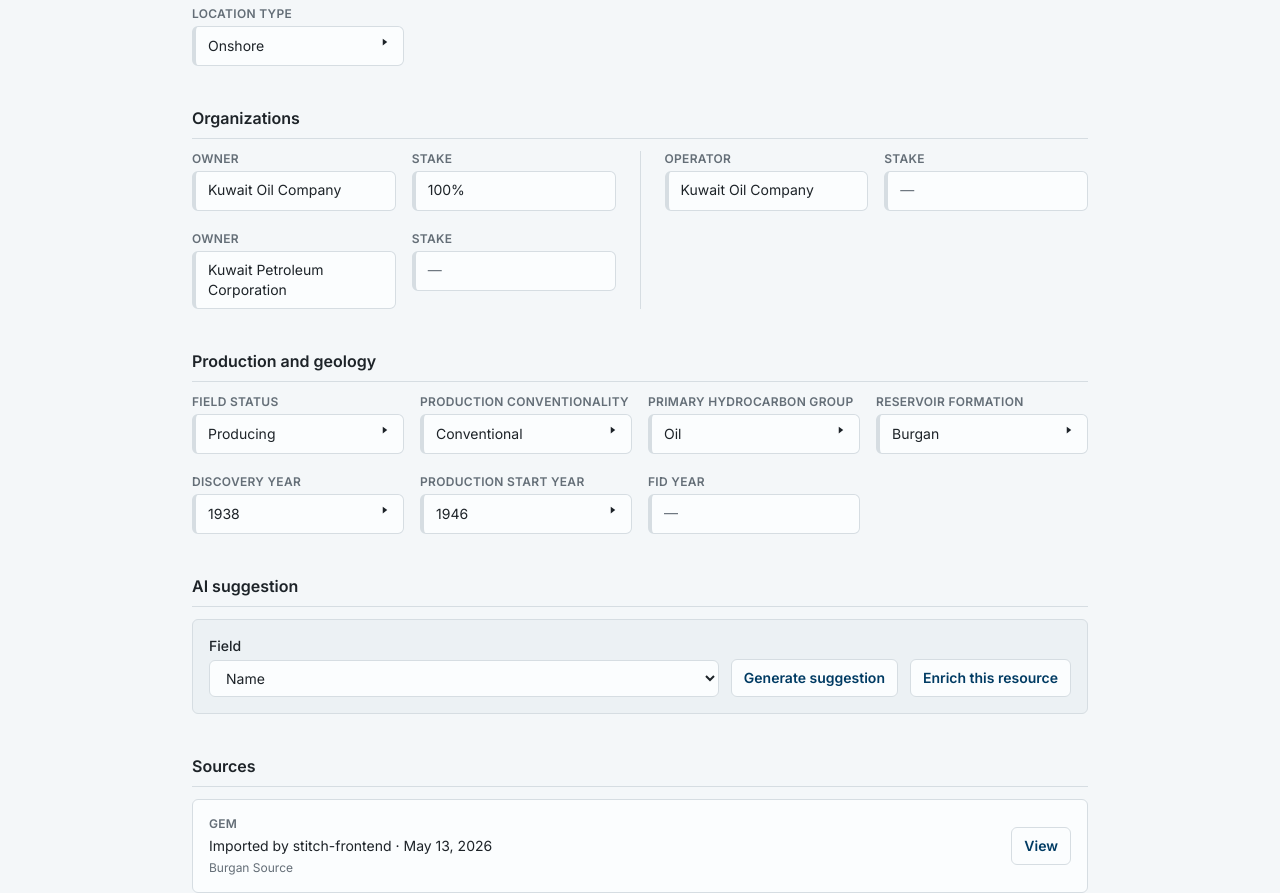
Test: ResourceDetailPage › shows the curator note from the source payload in the source details
This screenshot has width=1280, height=893.
(page scrolled)
Click the button "View". click: {"x": 1041, "y": 846}
box: x1=1011 y1=827 x2=1071 y2=865
(page scrolled)
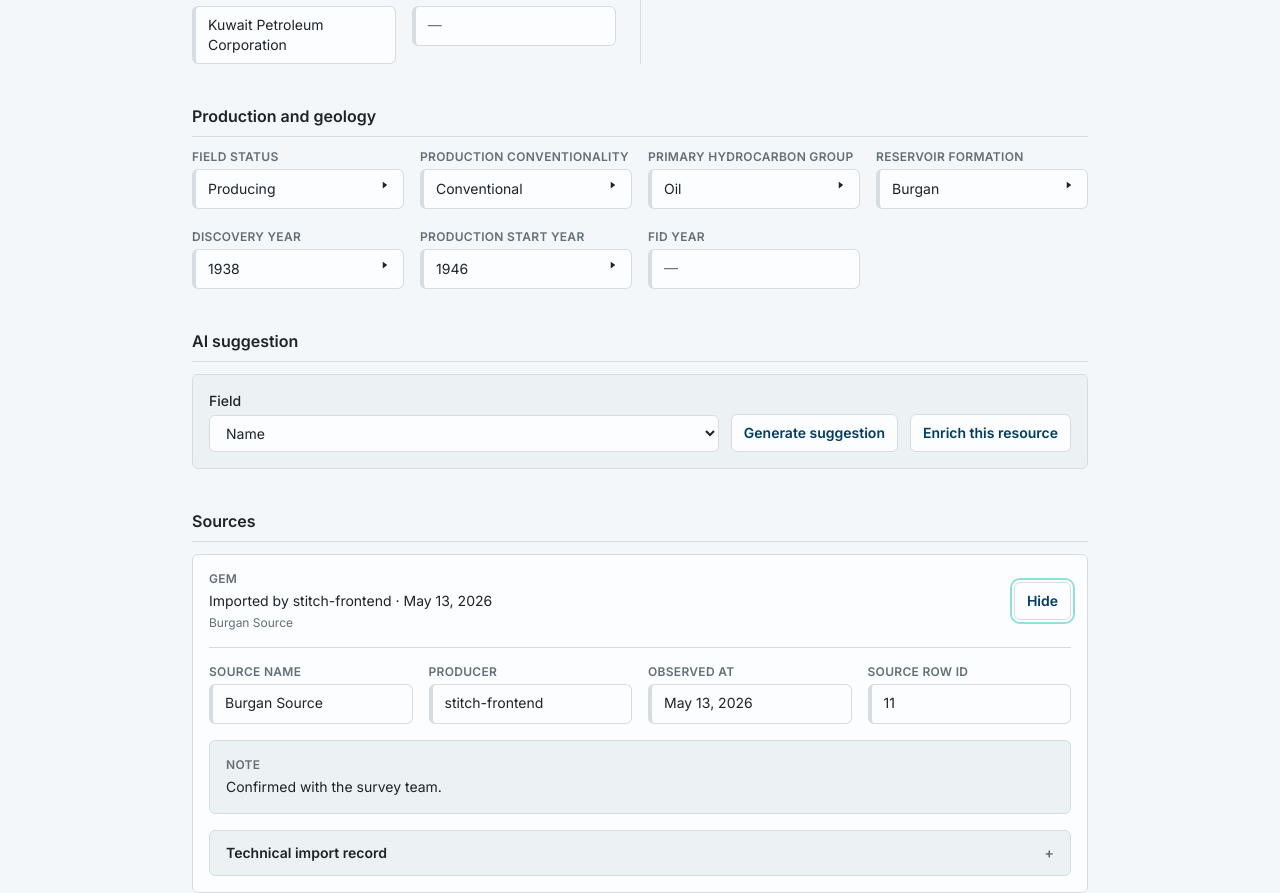
Now the text "Note" is shown, box x1=226 y1=757 x2=260 y2=772
Now the text "Confirmed with the survey team." is shown, box x1=226 y1=778 x2=442 y2=795
